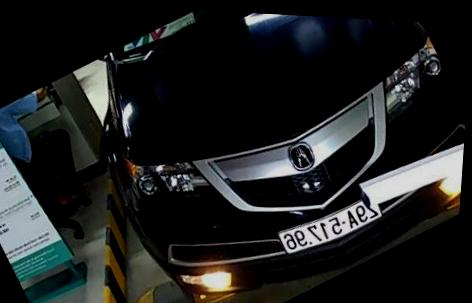License_Plate: (258, 190, 382, 270)
